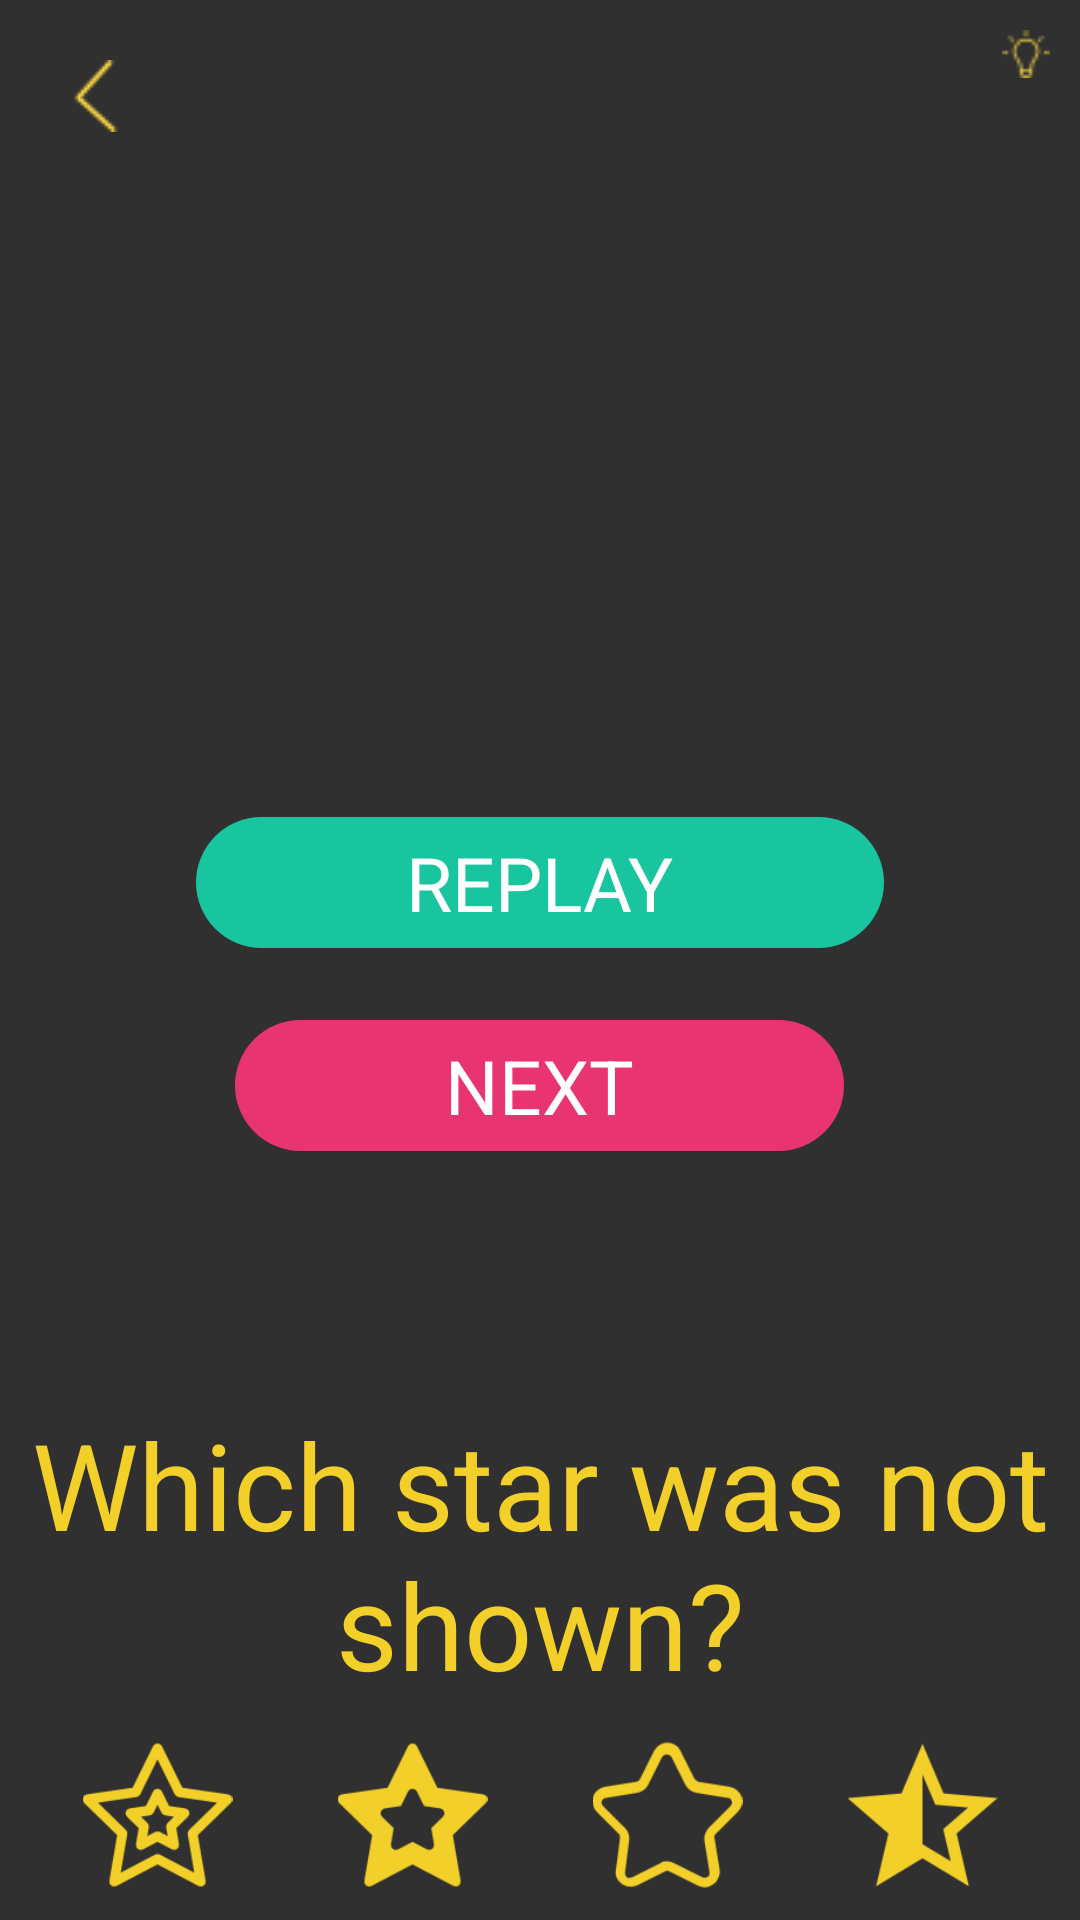

Icon bounding boxes for this 1080px×1920px phone screenshot, format (x1, y1, x2, y2):
arrow: (74, 60, 117, 132)
lightbulb: (1002, 30, 1050, 78)
